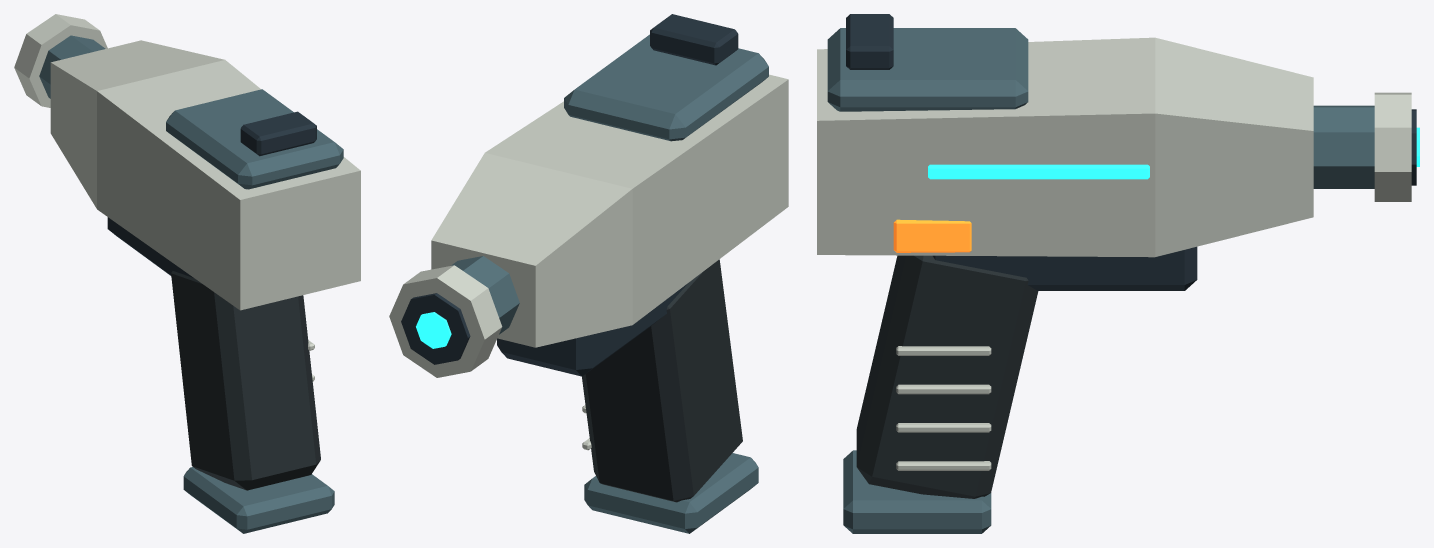
The model's file is 02_spark_pistol.glb.
The picture shows the model from 3 angles, left to right: view 1: azimuth 30°, elevation 25°; view 2: azimuth 150°, elevation 25°; view 3: azimuth 270°, elevation 25°; orthographic projection. The views are drawn at different scales.
Parts seen in each view (by area): view 1: upper receiver, grip, slide back, grip heel, muzzle collar, rear notch, barrel, lower frame; view 2: upper receiver, grip, slide back, grip heel, muzzle collar, lower frame, rear notch, muzzle aperture, barrel, muzzle ion core; view 3: upper receiver, grip, slide back, lower frame, grip heel, barrel, muzzle collar, luminous flank, rear notch, charge cell, grip rib.001, grip rib (+2 smaller).
Part boxes in pixels (x1=…): upper receiver: x1=50, y1=40, x2=360, y2=310; grip: x1=171, y1=271, x2=320, y2=490; slide back: x1=166, y1=89, x2=343, y2=189; grip heel: x1=183, y1=467, x2=334, y2=533; muzzle collar: x1=14, y1=14, x2=107, y2=107; rear notch: x1=240, y1=111, x2=316, y2=156; barrel: x1=39, y1=35, x2=105, y2=98; lower frame: x1=107, y1=217, x2=193, y2=277; upper receiver: x1=431, y1=74, x2=788, y2=347; grip: x1=582, y1=259, x2=742, y2=502; slide back: x1=564, y1=34, x2=768, y2=141; grip heel: x1=584, y1=453, x2=758, y2=533; muzzle collar: x1=389, y1=265, x2=502, y2=377; lower frame: x1=497, y1=283, x2=687, y2=376; rear notch: x1=650, y1=14, x2=738, y2=65; muzzle aperture: x1=401, y1=293, x2=470, y2=364; barrel: x1=451, y1=256, x2=519, y2=334; muzzle ion core: x1=416, y1=312, x2=451, y2=348; upper receiver: x1=817, y1=37, x2=1313, y2=257; grip: x1=856, y1=255, x2=1038, y2=498; slide back: x1=827, y1=28, x2=1028, y2=111; lower frame: x1=933, y1=246, x2=1197, y2=290; grip heel: x1=843, y1=450, x2=991, y2=533; barrel: x1=1313, y1=105, x2=1374, y2=188; muzzle collar: x1=1374, y1=92, x2=1411, y2=201; luminous flank: x1=928, y1=164, x2=1149, y2=179; rear notch: x1=846, y1=14, x2=893, y2=69; charge cell: x1=893, y1=219, x2=971, y2=252; grip rib.001: x1=896, y1=384, x2=991, y2=394; grip rib: x1=896, y1=346, x2=991, y2=355.
Size of the model in its own units: 0.1755 by 0.5 by 0.5705.
